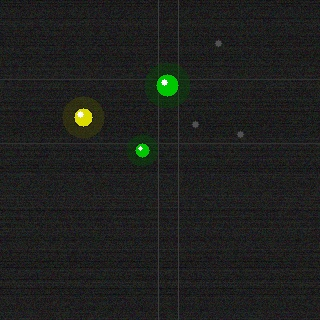green_normal: (154, 72, 180, 98), (133, 141, 151, 159)
yellow_warning: (72, 106, 94, 128)
